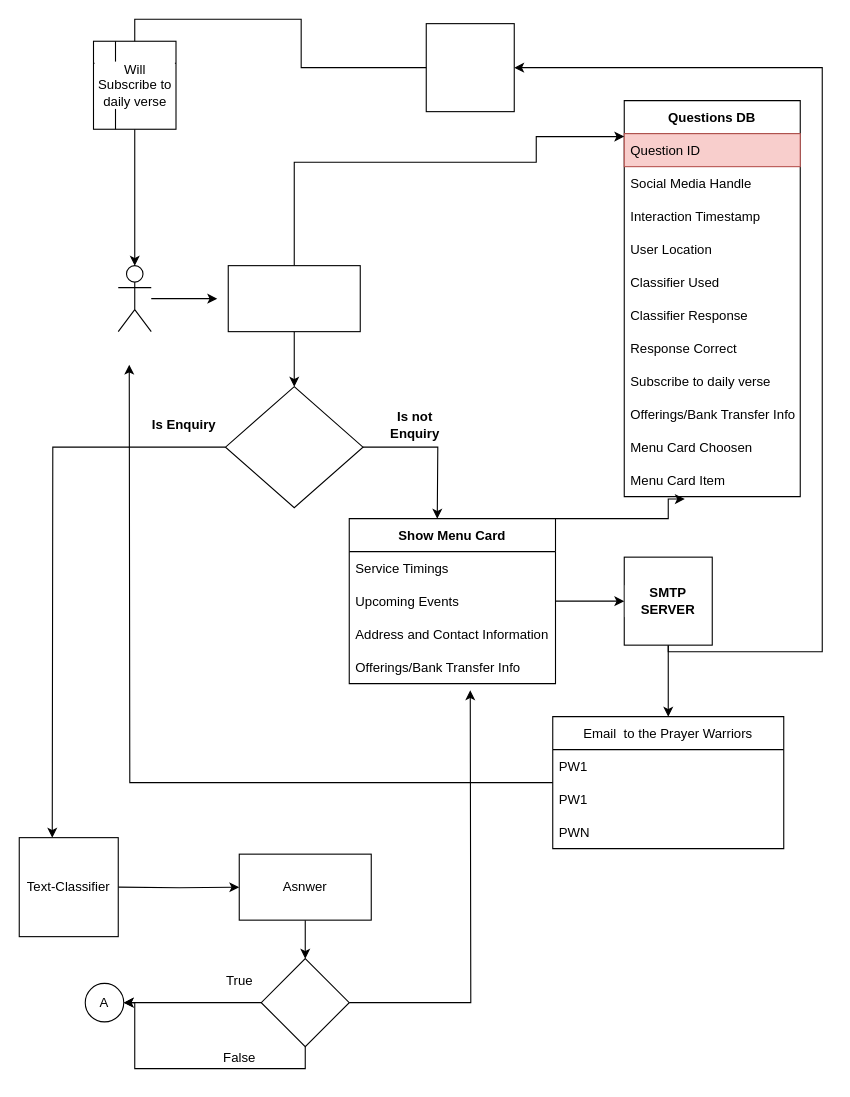
The diagram is 850 pixels wide and 1097 high, and some of its shapes have lost their labels. Here are the shapes that lost their labels. From the top down, the centre of each, then its label:
At [469,67]: "Temp Respnse".
At [134,298]: "Actor".
At [293,298]: "Client Interation".
At [293,447]: "Intent Classification".
At [304,1002]: "Is Correct".
